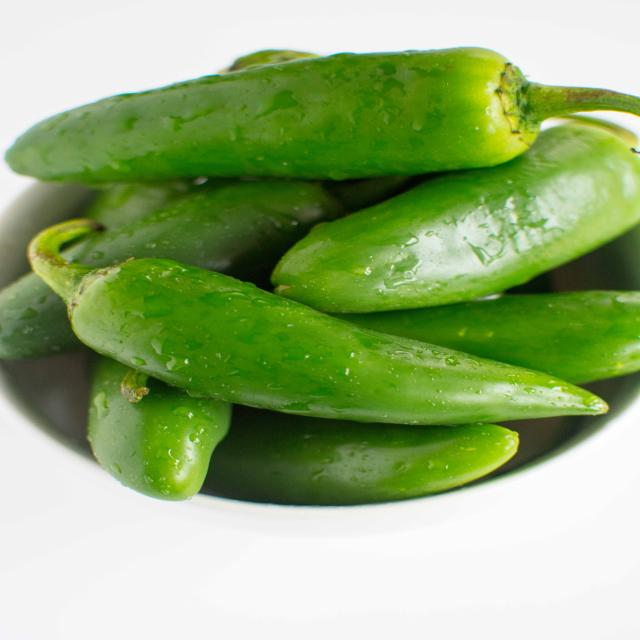aji: (17, 45, 640, 467)
